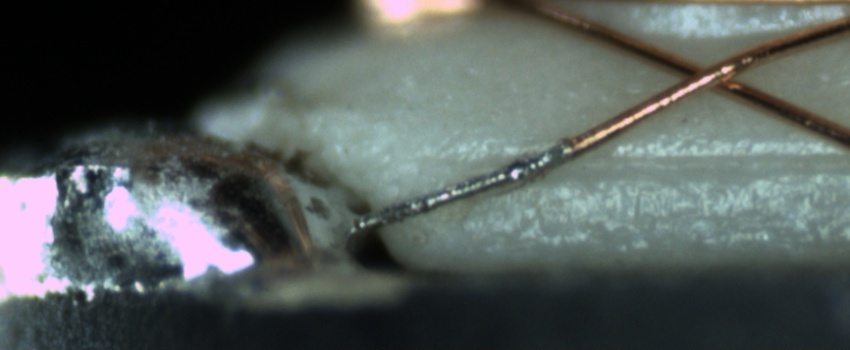CL: (658, 47, 756, 101)
DL: (427, 131, 850, 196)
TS: (351, 138, 572, 232)
TTCW: (343, 119, 611, 241)
